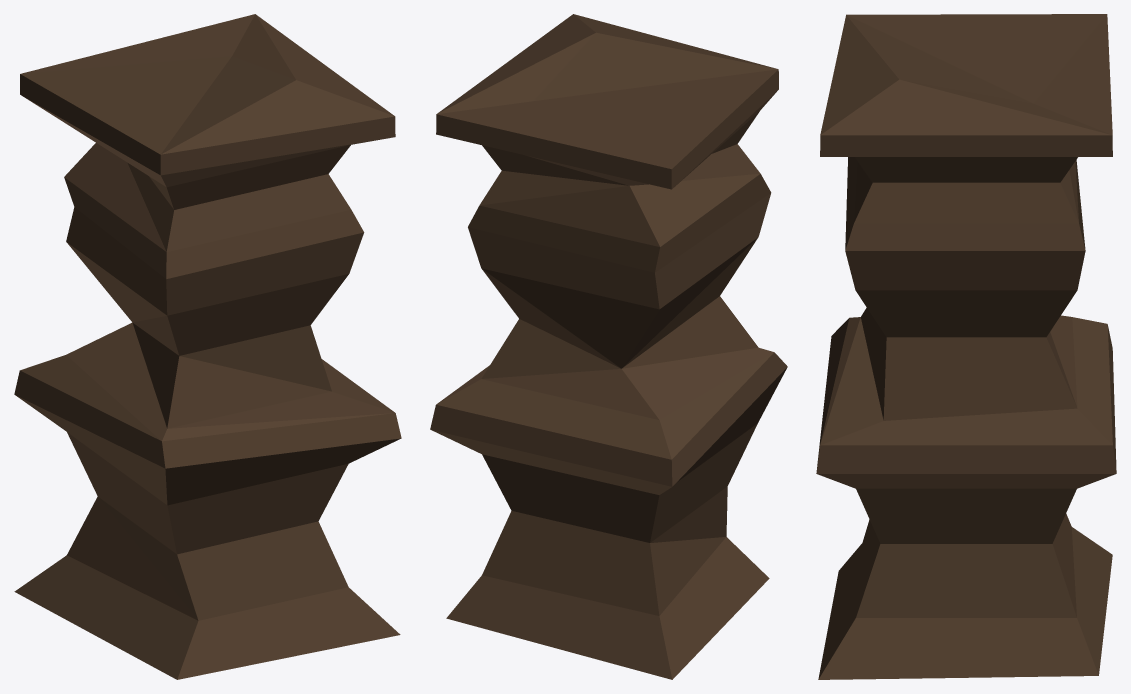
File: Ruin_9_Dark_Brown.fbx
The picture shows the model from 3 angles, left to right: view 1: azimuth 30°, elevation 25°; view 2: azimuth 150°, elevation 25°; view 3: azimuth 270°, elevation 25°; orthographic projection. The views are drawn at different scales.
Parts seen in each view (by area): view 1: Ruin_9_Dark_Brown; view 2: Ruin_9_Dark_Brown; view 3: Ruin_9_Dark_Brown.
Boxes of the visible parts, x1,y1,x2,y2 form: Ruin_9_Dark_Brown: [14, 14, 401, 679]; Ruin_9_Dark_Brown: [430, 14, 787, 679]; Ruin_9_Dark_Brown: [816, 14, 1116, 679].
Bounding box in the file's own units: 197 × 417 × 200.
